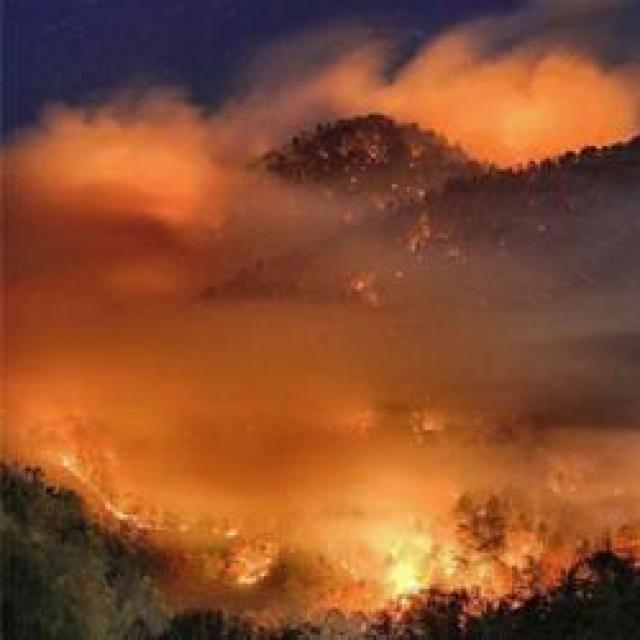fire: (383, 533, 433, 611)
smoke: (26, 102, 210, 324), (400, 46, 624, 149)
